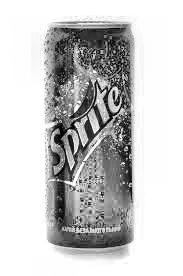can: (28, 12, 155, 257)
